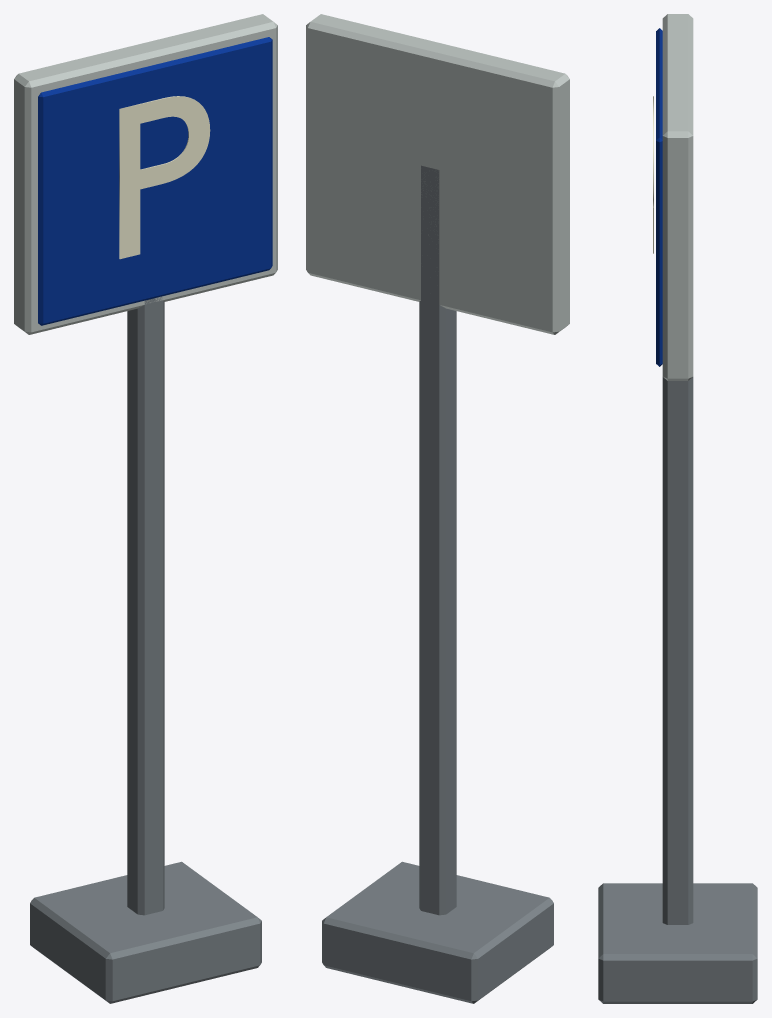
The model's file is ParkingSign.fbx.
The picture shows the model from 3 angles, left to right: view 1: azimuth 30°, elevation 25°; view 2: azimuth 150°, elevation 25°; view 3: azimuth 270°, elevation 25°; orthographic projection.
Visible parts, largest first — view 1: ParkingSign; view 2: ParkingSign; view 3: ParkingSign.
Part boxes in pixels (<box>): ParkingSign: <box>14,14,277,1003</box>; ParkingSign: <box>306,14,569,1003</box>; ParkingSign: <box>598,14,757,1003</box>.
Bounding box in the file's own units: 47 × 162 × 26.
1 material, 1 textured.
